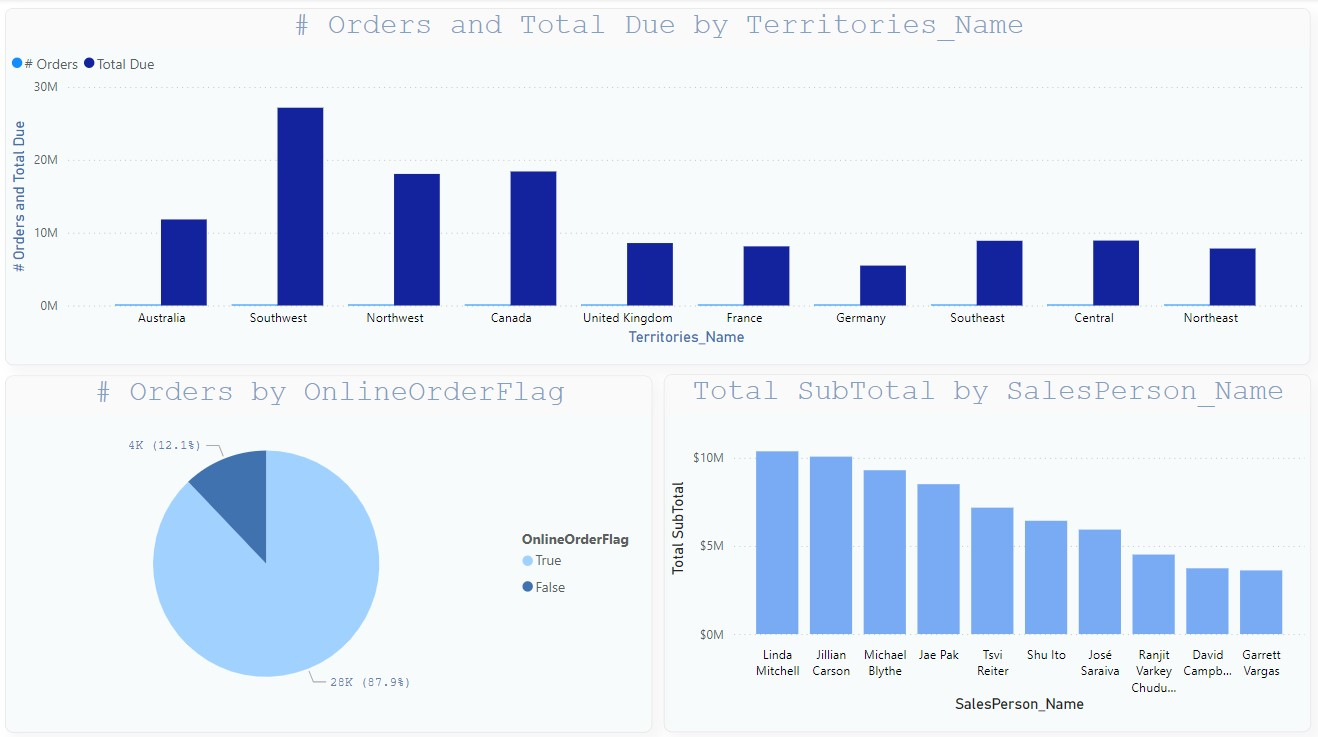

The page's visual inventory and layout, read from the dashboard file:
{"tool":"powerbi","page":{"name":"Lab 1.2","canvas":[1280,720],"ordinal":1},"visuals":[{"type":"clusteredColumnChart","fields":{"Category":["Territories.Territories_Name"],"Y":["Dax Measures.# Orders","Dax Measures.Total Due"]},"box":[10.1,10.1,1260,345.1],"z":0},{"type":"clusteredColumnChart","fields":{"Y":["Dax Measures.Total SubTotal"],"Category":["SalesPerson.SalesPerson_Name"]},"box":[645.6,363,624.9,345.9],"z":1000},{"type":"pieChart","fields":{"Y":["Dax Measures.# Orders"],"Category":["Orders.OnlineOrderFlag"]},"box":[10.1,363.9,624.9,345.1],"z":2000}]}

Visuals, with their boxes in screenshot pixels (x1, y1, x2, y2), scaled from the page's 1280x720 canvas onto the 1318x737 screenshot:
clusteredColumnChart - Territories.Territories_Name x Dax Measures.# Orders: select_region(10, 10, 1308, 364)
clusteredColumnChart - Dax Measures.Total SubTotal x SalesPerson.SalesPerson_Name: select_region(665, 372, 1308, 726)
pieChart - Dax Measures.# Orders x Orders.OnlineOrderFlag: select_region(10, 372, 654, 726)
